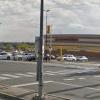Crosswalk: (1, 65, 91, 82)
